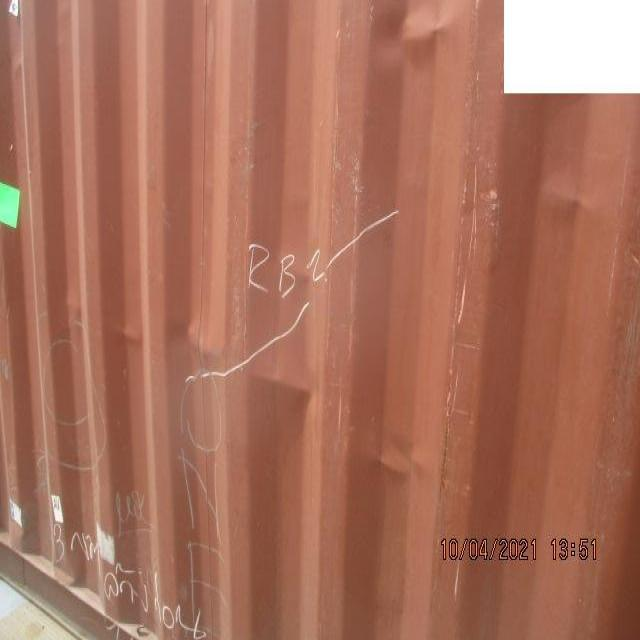dent: (65, 306, 311, 392), (363, 3, 482, 83), (364, 431, 431, 491)
